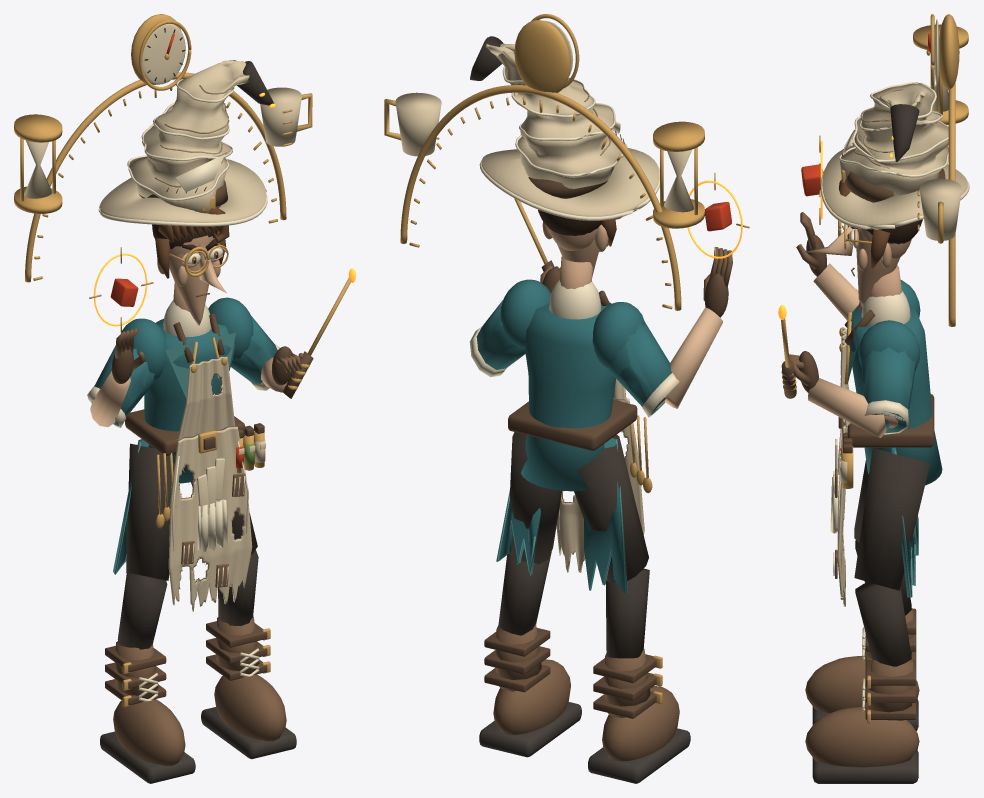
The model's file is culinary_wizard.glb.
3 views of the same model, side by side, from view 1: azimuth 30°, elevation 25°; view 2: azimuth 150°, elevation 25°; view 3: azimuth 270°, elevation 25° (orthographic). The views are drawn at different scales.
Parts seen in each view (by area): view 1: Body_Geometry, Hat_Geometry, LeftLeg_Geometry, OrbitRig_Geometry, RightLeg_Geometry, LeftArm_Geometry, Head_Geometry, RightArm_Geometry, Tools_Geometry, Magic_Geometry; view 2: Body_Geometry, LeftLeg_Geometry, Hat_Geometry, RightLeg_Geometry, OrbitRig_Geometry, LeftArm_Geometry, RightArm_Geometry, Head_Geometry, Tools_Geometry, Magic_Geometry; view 3: RightLeg_Geometry, Hat_Geometry, Body_Geometry, RightArm_Geometry, OrbitRig_Geometry, LeftLeg_Geometry, Head_Geometry, LeftArm_Geometry, Tools_Geometry, Magic_Geometry.
Boxes of the visible parts, x1,y1,x2,y2 form: Body_Geometry: (113, 282, 252, 611); Hat_Geometry: (98, 60, 275, 226); LeftLeg_Geometry: (100, 443, 195, 783); OrbitRig_Geometry: (14, 14, 312, 282); RightLeg_Geometry: (191, 481, 296, 759); LeftArm_Geometry: (87, 318, 166, 427); Head_Geometry: (152, 207, 229, 325); RightArm_Geometry: (208, 297, 303, 392); Tools_Geometry: (156, 268, 355, 528); Magic_Geometry: (89, 247, 153, 333); Body_Geometry: (496, 256, 644, 593); LeftLeg_Geometry: (574, 434, 690, 783); Hat_Geometry: (470, 36, 659, 220); RightLeg_Geometry: (479, 432, 581, 757); OrbitRig_Geometry: (384, 14, 704, 310); LeftArm_Geometry: (592, 247, 732, 417); RightArm_Geometry: (469, 264, 560, 377); Head_Geometry: (538, 209, 621, 277); Tools_Geometry: (514, 198, 652, 493); Magic_Geometry: (687, 173, 749, 265); RightLeg_Geometry: (805, 447, 930, 783); Hat_Geometry: (820, 82, 969, 229); Body_Geometry: (830, 265, 942, 606); RightArm_Geometry: (789, 320, 920, 437); OrbitRig_Geometry: (913, 14, 968, 326); LeftLeg_Geometry: (805, 460, 919, 730); Head_Geometry: (804, 179, 922, 306); LeftArm_Geometry: (796, 212, 920, 320); Tools_Geometry: (778, 305, 853, 488); Magic_Geometry: (801, 135, 823, 224).
Bounding box in the file's own units: 1.94 × 4.45 × 1.05.
